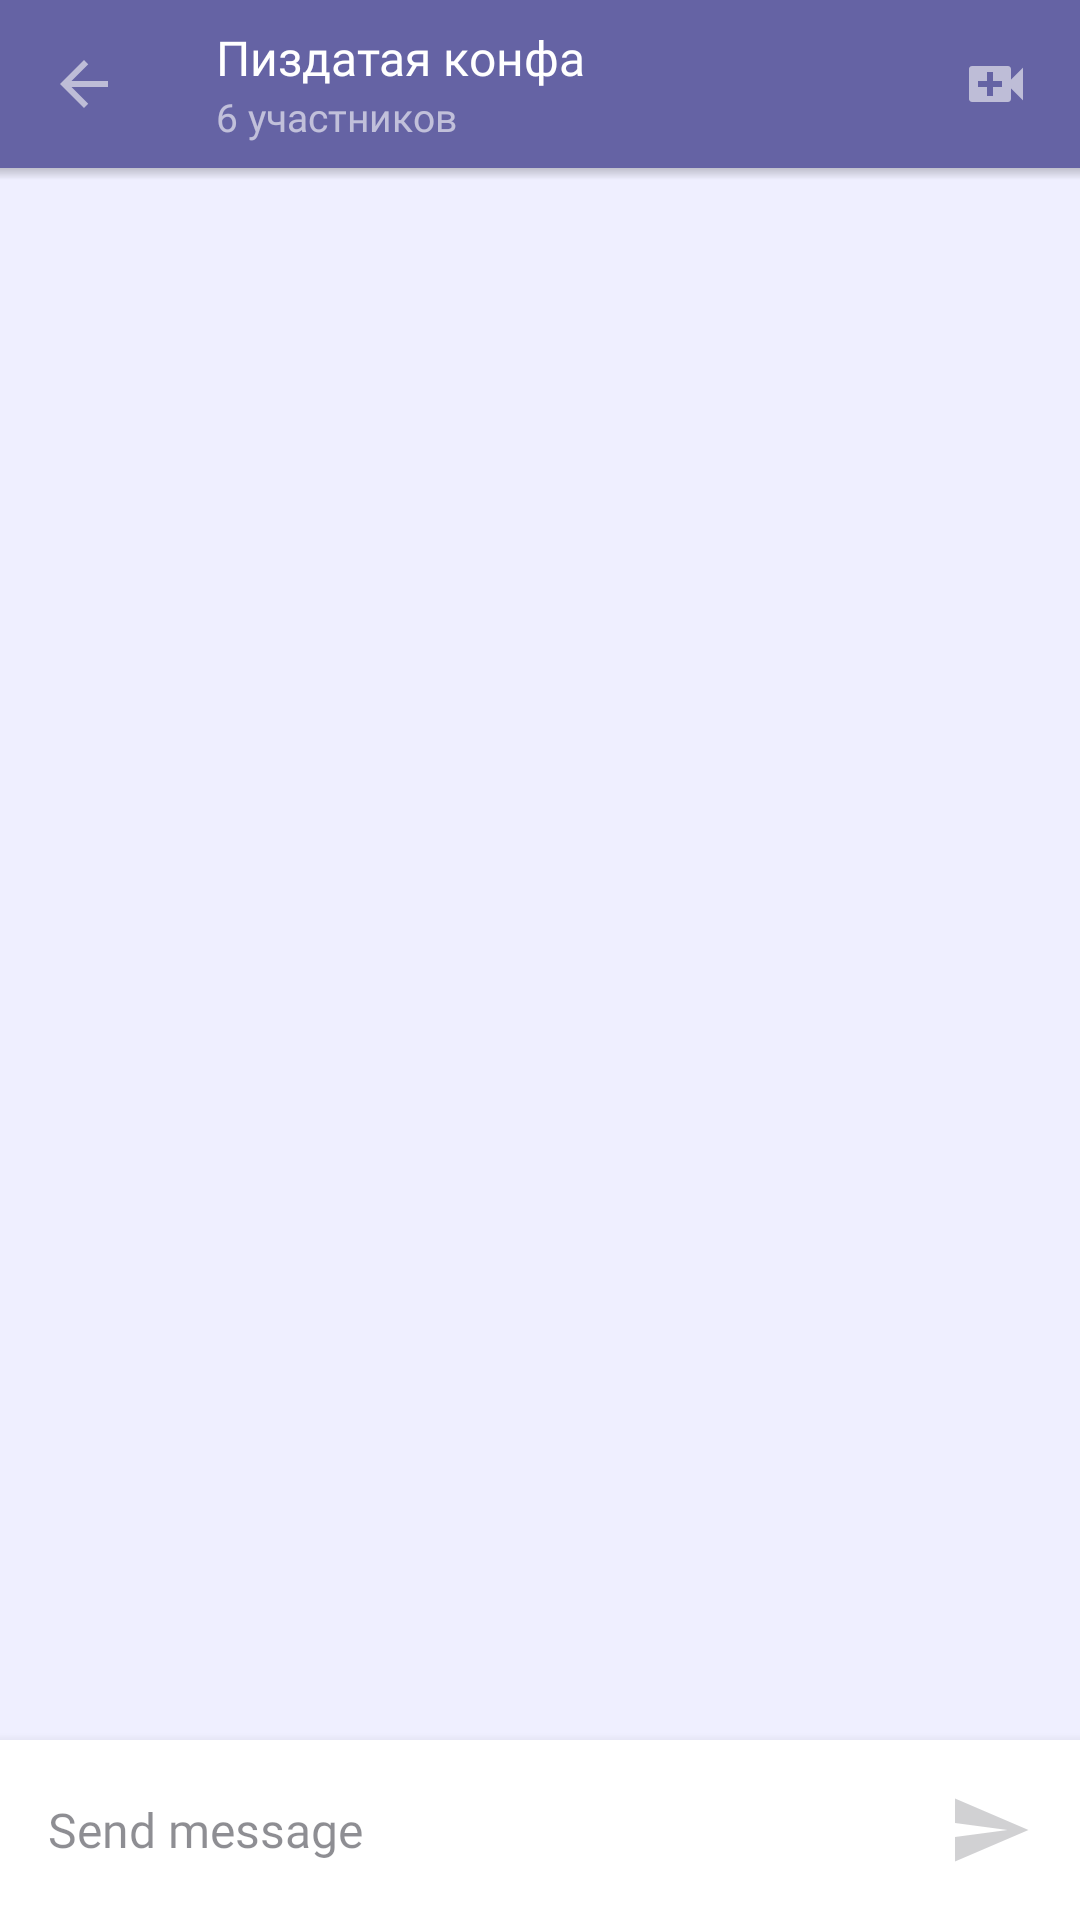

Named icons in this screenshot (1080 × 1920) and their centers, point (x, y):
video call: point (996, 84)
